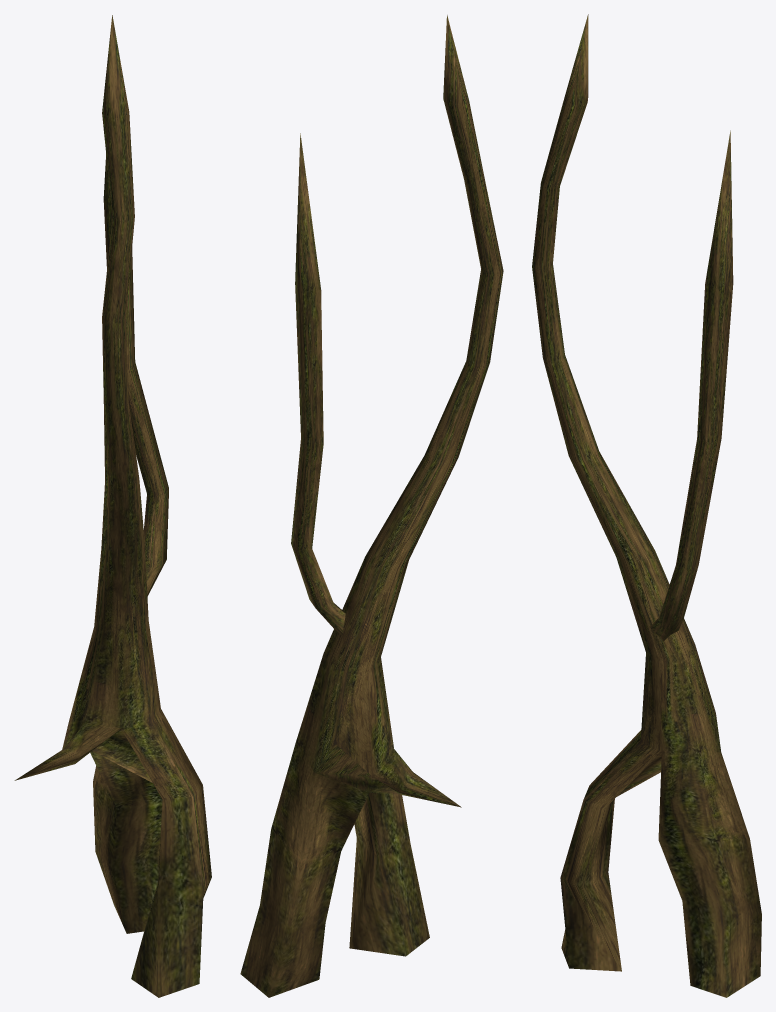
The model's file is Trap_Wood02.FBX.
3 renders of one model, left to right at view 1: azimuth 30°, elevation 25°; view 2: azimuth 150°, elevation 25°; view 3: azimuth 270°, elevation 25°, orthographic. The views are drawn at different scales.
Visible parts, largest first — view 1: Trap_Wood02; view 2: Trap_Wood02; view 3: Trap_Wood02.
Part boxes in pixels (left/top/right/bottom): Trap_Wood02: left=14, top=15, right=211, bottom=997; Trap_Wood02: left=240, top=15, right=503, bottom=997; Trap_Wood02: left=532, top=14, right=761, bottom=997.
Size of the model in its own units: 567 by 2678 by 607.
